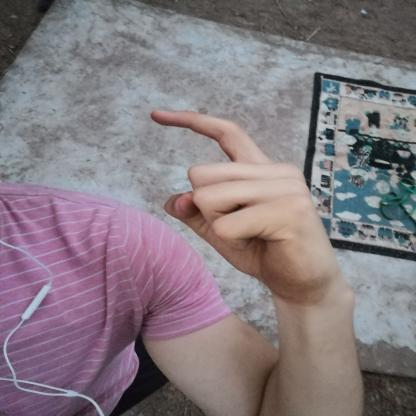RAA: (137, 95, 354, 306)
